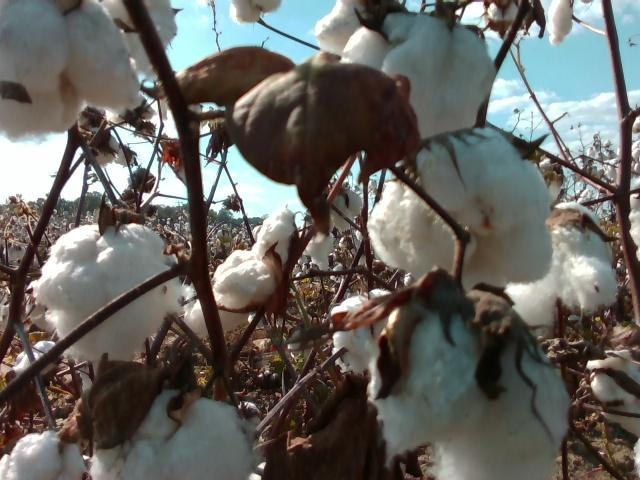cotton_ready: (367, 300, 571, 480), (367, 129, 557, 291), (31, 220, 182, 361), (339, 13, 498, 144), (0, 0, 144, 140), (506, 203, 619, 341), (186, 202, 298, 341), (88, 395, 257, 480), (330, 289, 403, 376), (102, 0, 181, 76), (588, 347, 640, 434), (0, 431, 88, 480), (311, 0, 385, 57), (323, 186, 367, 234), (299, 215, 335, 272), (227, 0, 284, 24), (547, 0, 575, 47), (483, 0, 525, 26)
